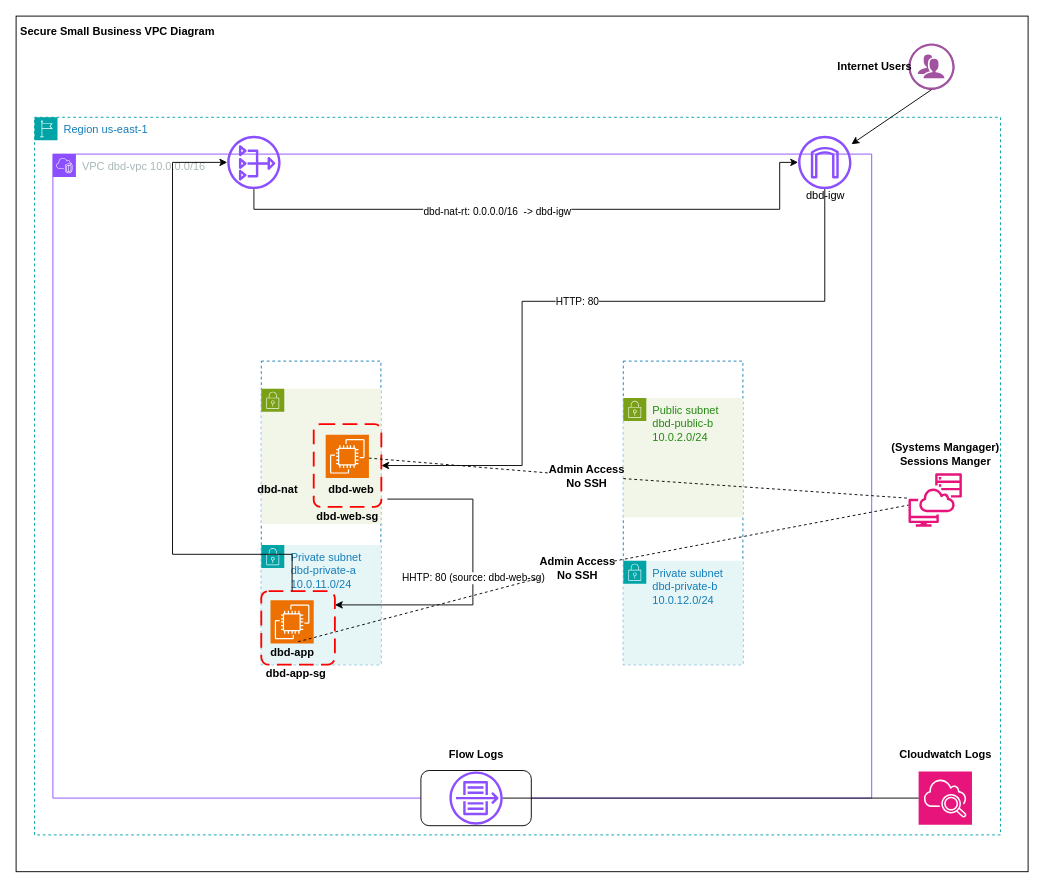
Image size: 1044x888. Some labels were removed from this diagram. The box of each missing label's shape, as (x1, y1, x2, y2) in pixels:
dbd-public-a 10.0.1.0/24: (260, 388, 381, 524)
us-east-1a: (260, 360, 381, 665)
us-east-1b: (622, 360, 743, 665)
